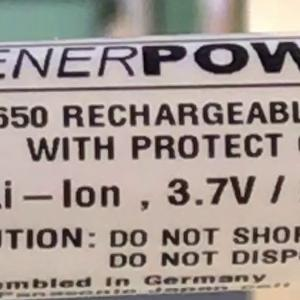3.7V: (157, 166, 265, 216)
